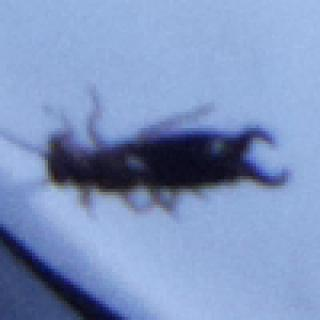earwig: (0, 78, 299, 222)
